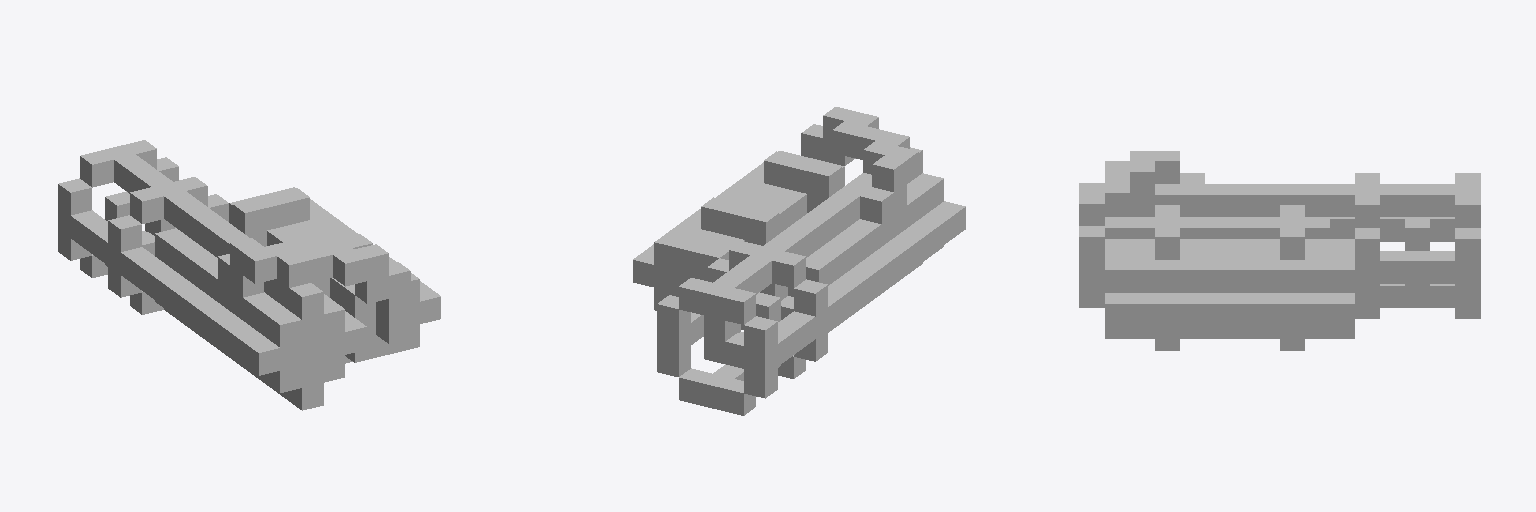
Rendered from Grapple Gun.obj.
3 views of the same model, side by side, from view 1: azimuth 30°, elevation 25°; view 2: azimuth 150°, elevation 25°; view 3: azimuth 270°, elevation 25° (orthographic).
Parts seen in each view (by area): view 1: object 1; view 2: object 1; view 3: object 1.
Part boxes in pixels (x1,y1,x2,y2): object 1: (58,140,440,410); object 1: (633,107,965,415); object 1: (1079,151,1480,350).
Size of the model in its own units: 0.9 by 0.6 by 1.6.